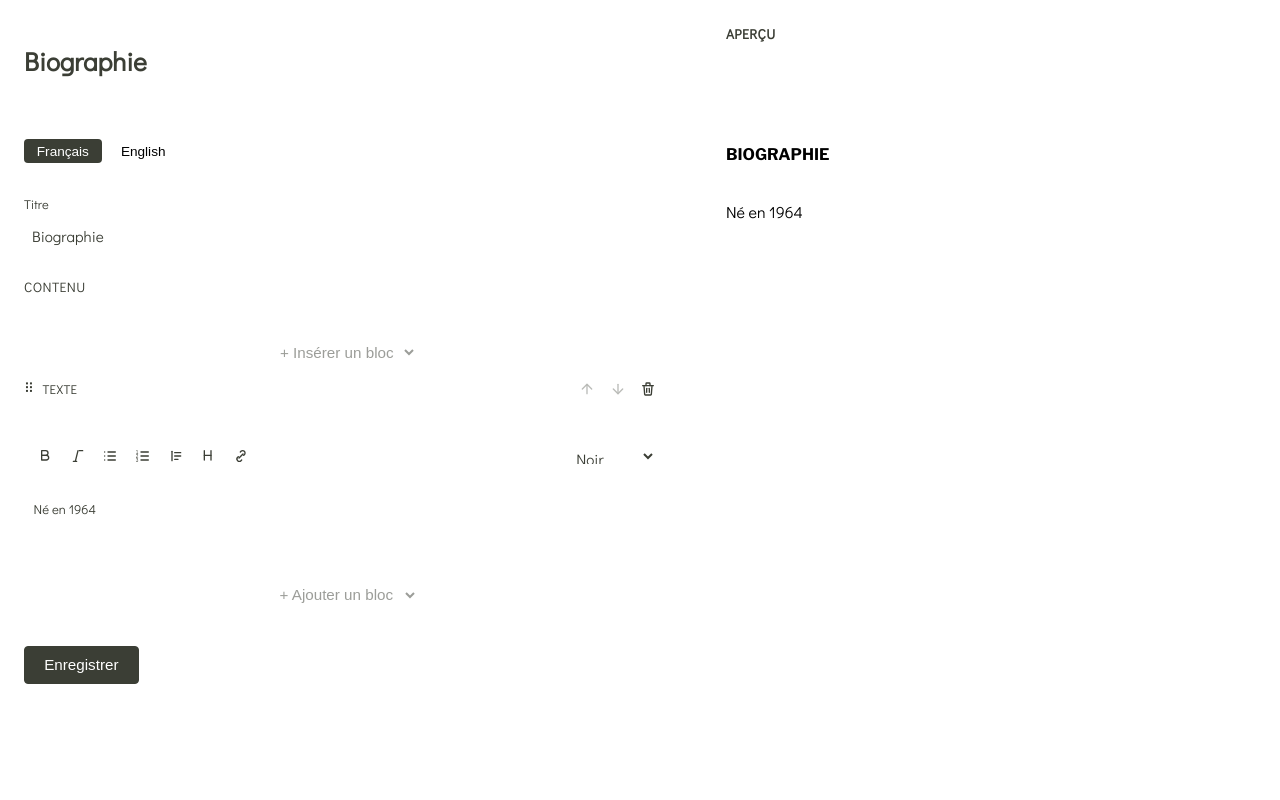
Test case: PageEditor preview › updates the preview as the title field is edited, without saving
The width and height of the screenshot is (1280, 800).
Expected: the element labelled "Aperçu" is shown, [702,0,1279,277]
Step 1. Replace the text in the field labelled "Titre" with "Nouveau titre" → (343, 236), box [24,218,662,254]
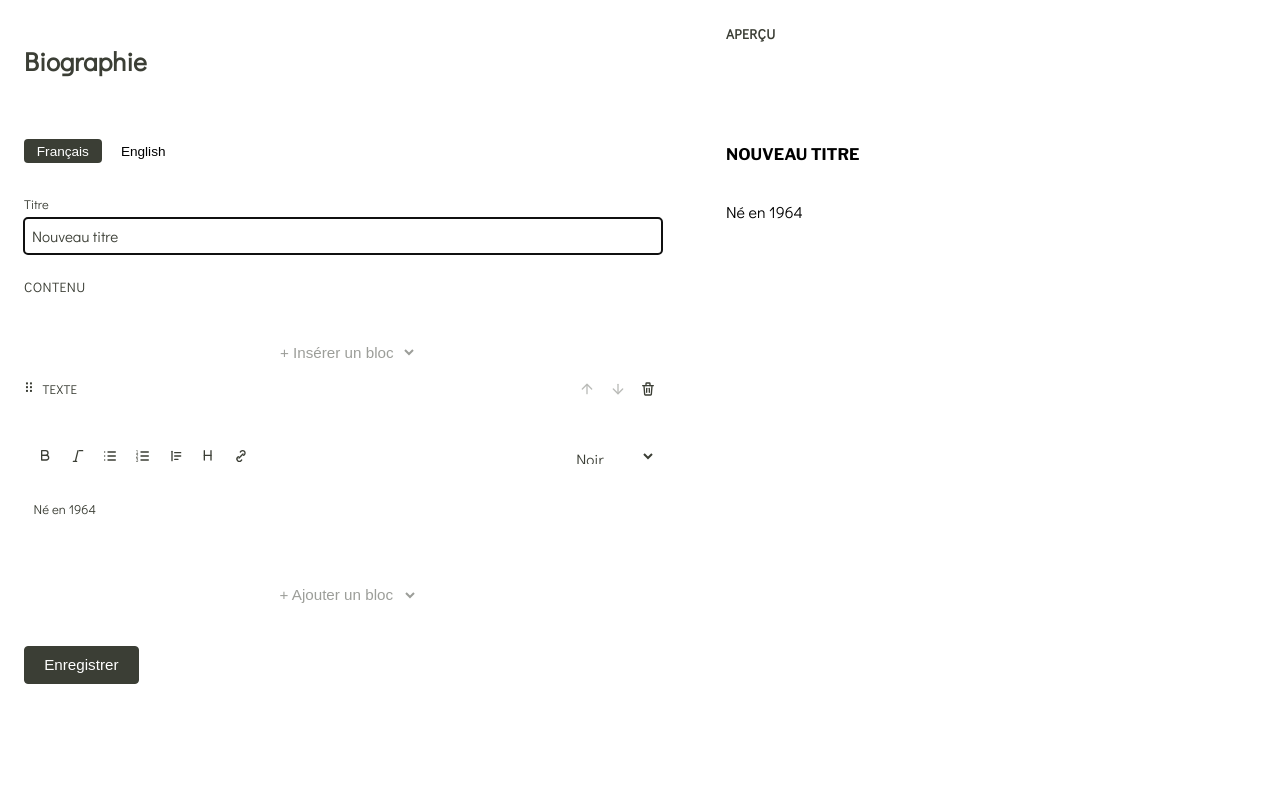
Expected: the element labelled "Aperçu" shows "Nouveau titre", [726,145,860,164]
